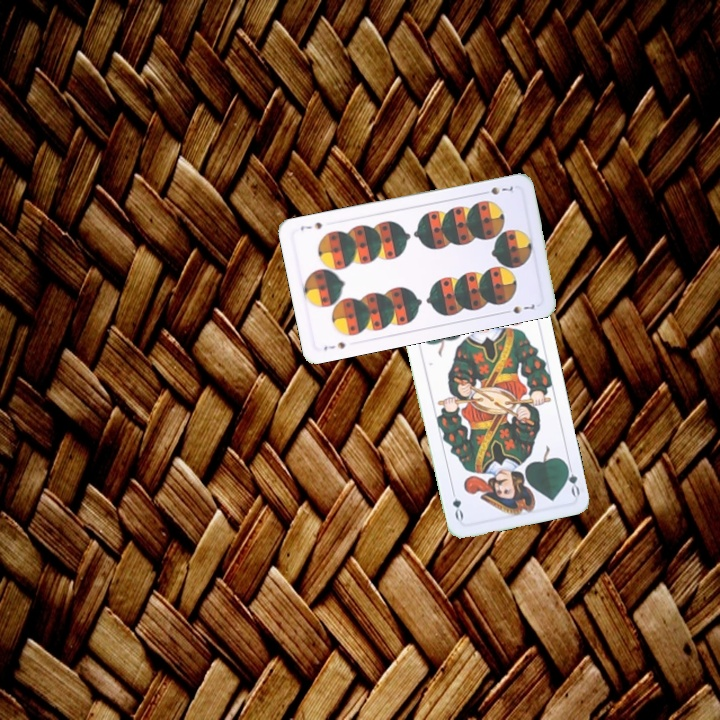GO: (561, 458, 582, 499)
S7: (477, 183, 517, 197), (320, 338, 348, 353)
